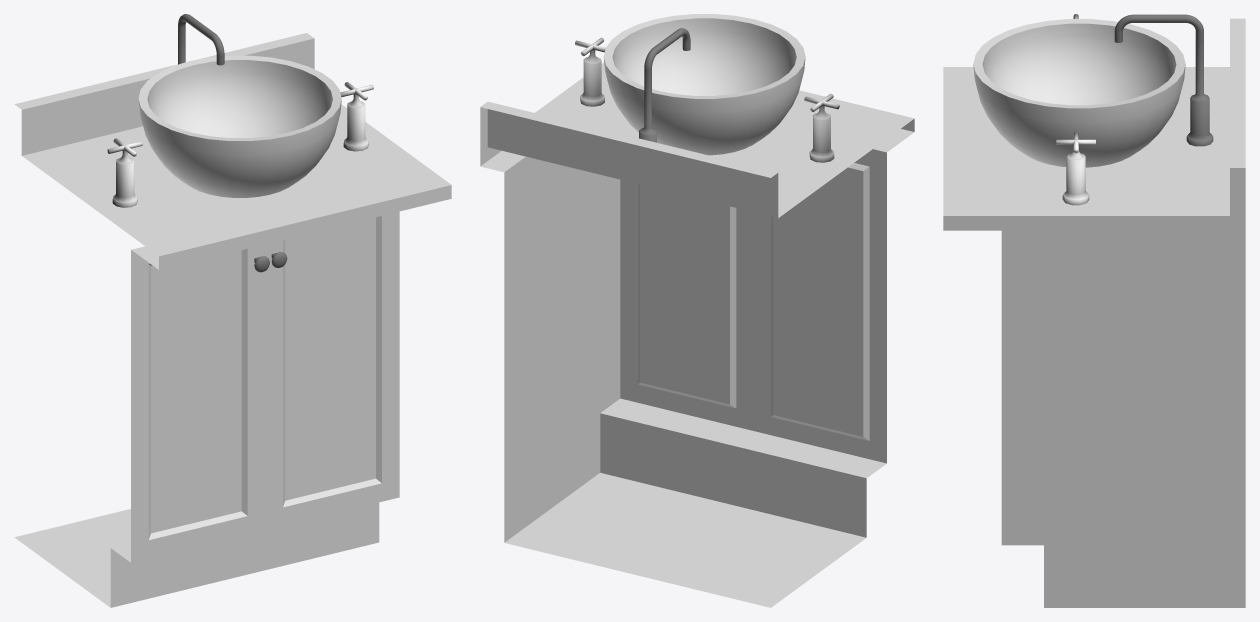
File: Sink.fbx
3 views of the same model, side by side, from view 1: azimuth 30°, elevation 25°; view 2: azimuth 150°, elevation 25°; view 3: azimuth 270°, elevation 25° (orthographic). The views are drawn at different scales.
Visible parts, largest first — view 1: SinkCounter, Sink, SinkKnob, SinkFaucet; view 2: SinkCounter, Sink, SinkKnob, SinkFaucet; view 3: SinkCounter, Sink, SinkFaucet, SinkKnob.
Boxes of the visible parts, x1,y1,x2,y2 form: SinkCounter: (14, 33, 451, 607); Sink: (138, 55, 341, 197); SinkKnob: (107, 82, 373, 207); SinkFaucet: (178, 14, 287, 272); SinkCounter: (480, 62, 914, 607); Sink: (603, 14, 805, 155); SinkKnob: (575, 37, 839, 162); SinkFaucet: (639, 28, 690, 142); SinkCounter: (943, 18, 1245, 607); Sink: (973, 19, 1185, 167); SinkFaucet: (1114, 14, 1213, 146); SinkKnob: (1056, 14, 1095, 205).
Size of the model in its own units: 66.5 by 110 by 57.
